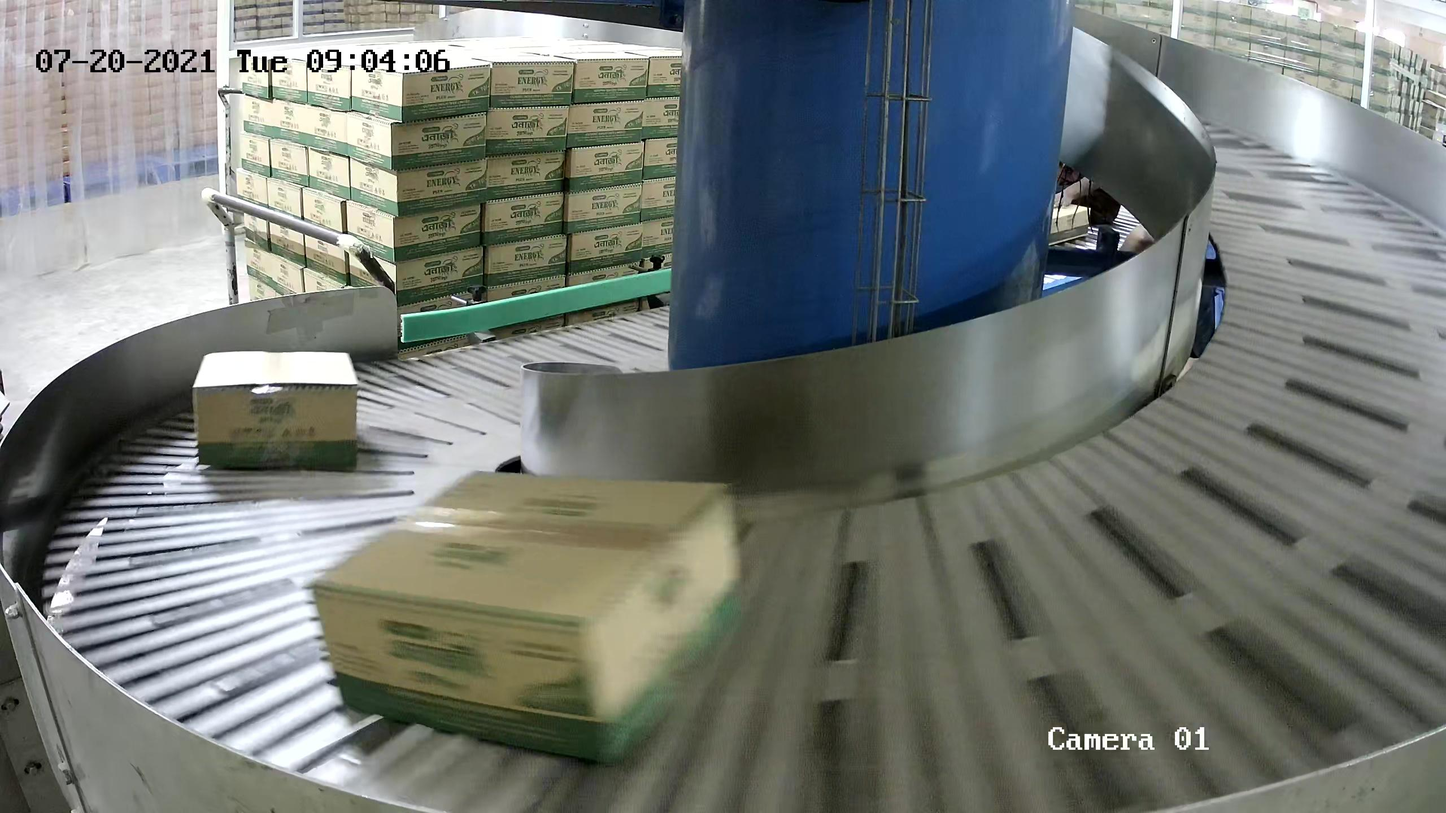Box: (309, 464, 749, 770), (191, 348, 362, 472)
